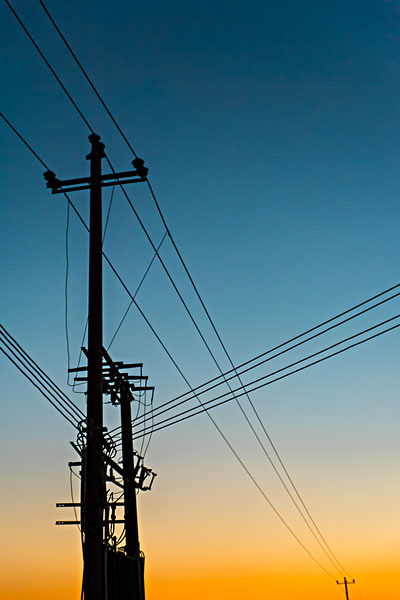utility_pole: (38, 123, 158, 218)
